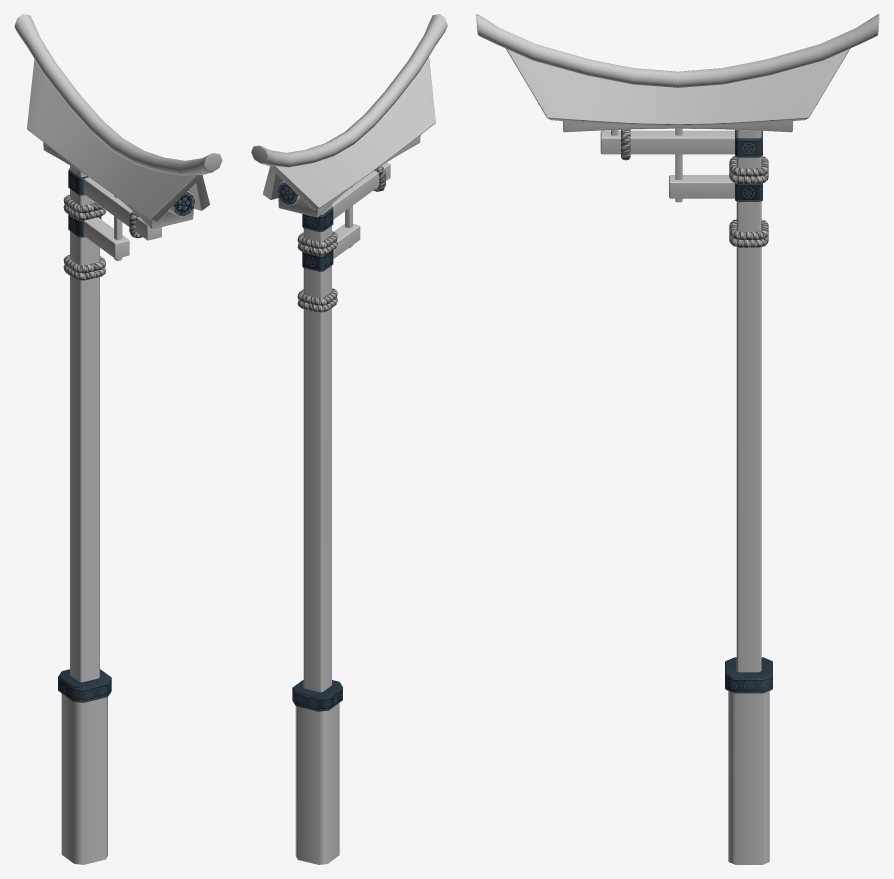
The model's file is SM_Lamp_post_LOD0.fbx.
The picture shows the model from 3 angles, left to right: view 1: azimuth 30°, elevation 25°; view 2: azimuth 150°, elevation 25°; view 3: azimuth 270°, elevation 25°; orthographic projection. The views are drawn at different scales.
Parts seen in each view (by area): view 1: SM_Lamp_post_LOD0_LOD0; view 2: SM_Lamp_post_LOD0_LOD0; view 3: SM_Lamp_post_LOD0_LOD0.
Boxes of the visible parts, x1=… form: SM_Lamp_post_LOD0_LOD0: x1=14, y1=14, x2=222, y2=864; SM_Lamp_post_LOD0_LOD0: x1=251, y1=14, x2=447, y2=864; SM_Lamp_post_LOD0_LOD0: x1=476, y1=14, x2=879, y2=864.
Size of the model in its own units: 42.35 by 233 by 537.
